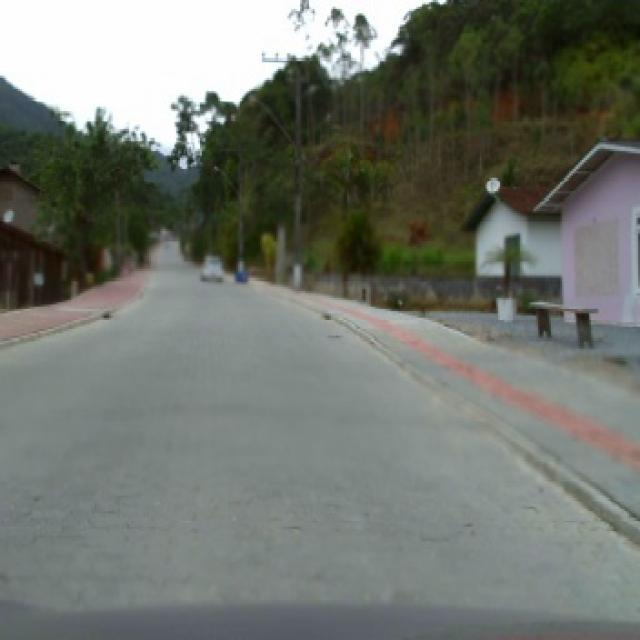Poth-hole: (100, 309, 111, 318), (320, 311, 329, 318)
